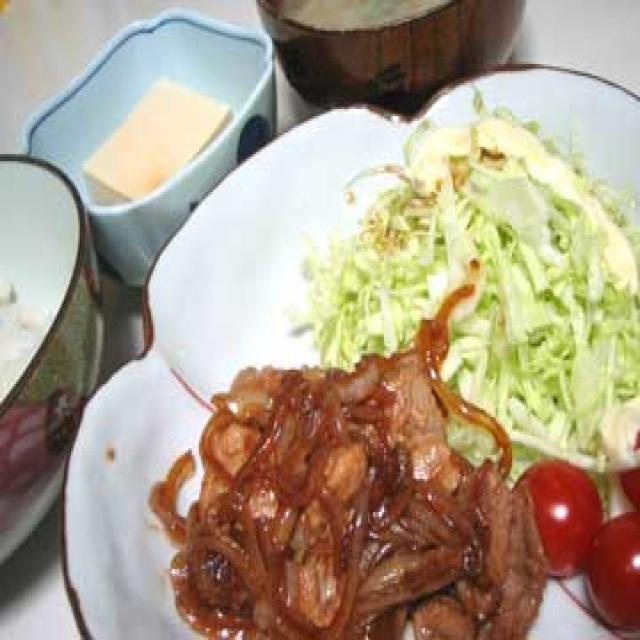猪肉菜式: (124, 85, 640, 640)
